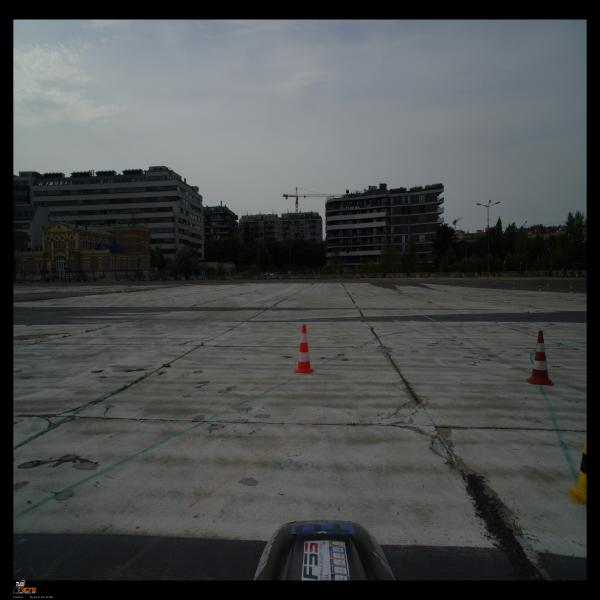large_orange_cone: (526, 331, 554, 386), (293, 324, 315, 373)
orange_cone: (546, 282, 549, 288), (476, 280, 479, 286), (492, 282, 495, 287), (569, 283, 571, 290), (451, 280, 454, 284), (340, 280, 343, 284), (521, 281, 523, 286), (463, 279, 465, 284), (424, 279, 426, 284), (358, 279, 360, 284), (494, 280, 496, 284), (425, 279, 427, 283), (388, 280, 390, 284), (353, 279, 355, 283), (324, 280, 326, 284), (312, 280, 313, 285)
yellow_cone: (568, 432, 586, 506), (570, 287, 574, 294), (538, 285, 542, 291), (512, 283, 516, 289)
